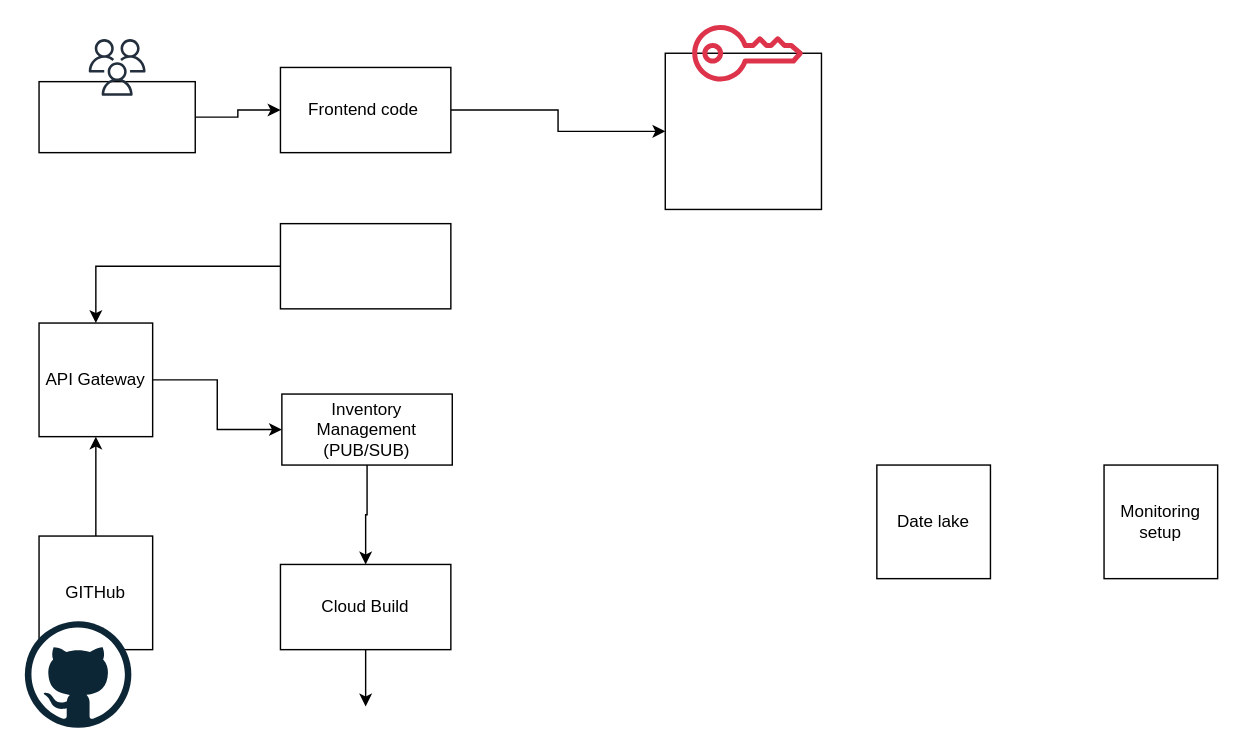
The diagram is 1243 pixels wide and 753 high, and some of its shapes have lost their labels. The shapes that lost their labels are listed below. From the top down, each one's box as (x1, y1, x2, y2) in pixels, then its label:
(38, 80, 195, 153): Users
(664, 52, 821, 209): Security IAM
(279, 222, 451, 309): Admin
